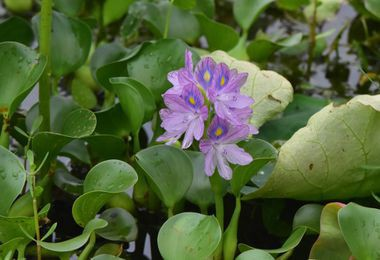water_hyacinth: (0, 1, 379, 259)
